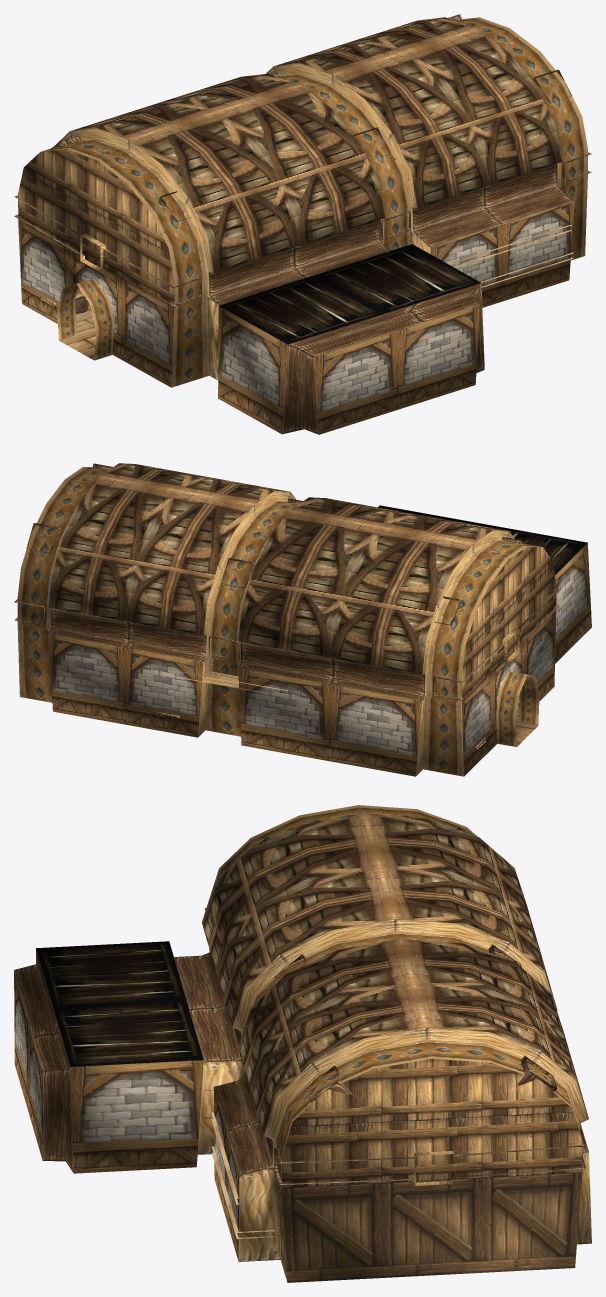
File: stormwind_224.fbx
3 renders of one model, top to bottom at view 1: azimuth 30°, elevation 25°; view 2: azimuth 150°, elevation 25°; view 3: azimuth 270°, elevation 25°, orthographic. The views are drawn at different scales.
Parts seen in each view (by area): view 1: stormwind_224_49, stormwind_224_53, stormwind_224_87, stormwind_224_55, stormwind_224_50, stormwind_224_54, stormwind_224_51; view 2: stormwind_224_49, stormwind_224_53, stormwind_224_87, stormwind_224_55, stormwind_224_50, stormwind_224_54; view 3: stormwind_224_49, stormwind_224_53, stormwind_224_55, stormwind_224_56, stormwind_224_87, stormwind_224_50, stormwind_224_54.
Part boxes in pixels (<box>): stormwind_224_49: <box>70,17,561,272</box>; stormwind_224_53: <box>14,14,591,434</box>; stormwind_224_87: <box>18,202,574,434</box>; stormwind_224_55: <box>18,149,174,307</box>; stormwind_224_50: <box>219,244,480,344</box>; stormwind_224_54: <box>40,225,573,307</box>; stormwind_224_51: <box>59,303,95,359</box>; stormwind_224_49: <box>48,463,507,719</box>; stormwind_224_53: <box>14,463,559,776</box>; stormwind_224_87: <box>48,543,591,776</box>; stormwind_224_55: <box>461,546,556,702</box>; stormwind_224_50: <box>378,505,587,574</box>; stormwind_224_54: <box>155,628,519,749</box>; stormwind_224_49: <box>202,814,587,1135</box>; stormwind_224_53: <box>14,805,591,1281</box>; stormwind_224_55: <box>282,1058,582,1188</box>; stormwind_224_56: <box>282,1172,582,1282</box>; stormwind_224_87: <box>14,971,239,1261</box>; stormwind_224_50: <box>36,941,203,1066</box>; stormwind_224_54: <box>211,1112,454,1239</box>.
Bounding box in the file's own units: 30.49 × 11.77 × 26.96.
